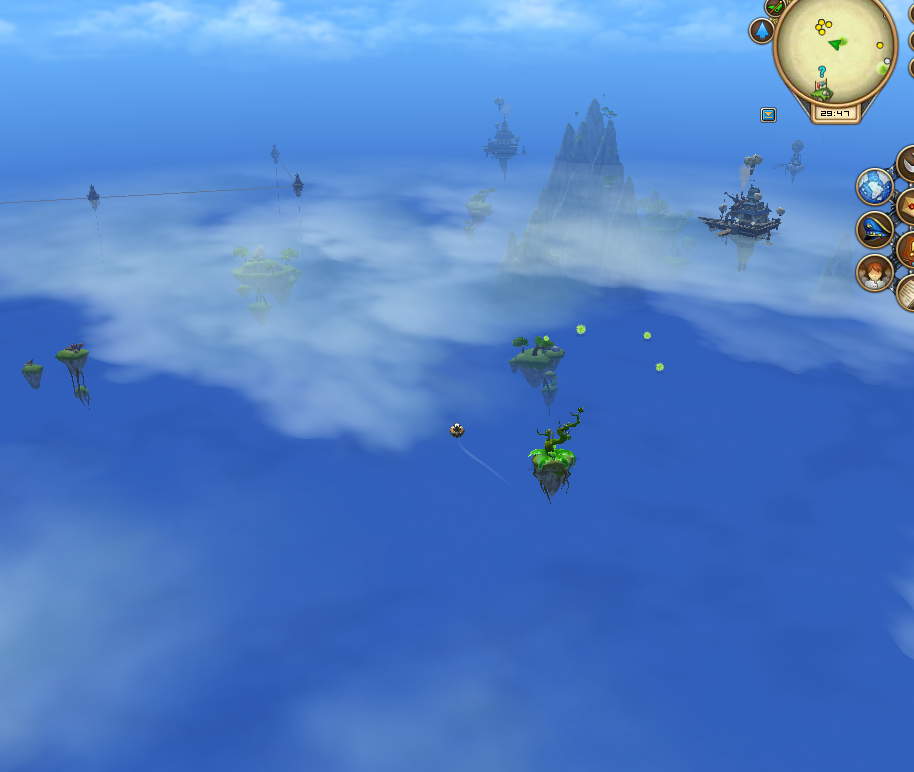dandelion-empty: (525, 406, 588, 494)
fluff: (638, 327, 654, 341), (574, 321, 588, 335), (652, 361, 666, 375), (540, 331, 553, 342)
